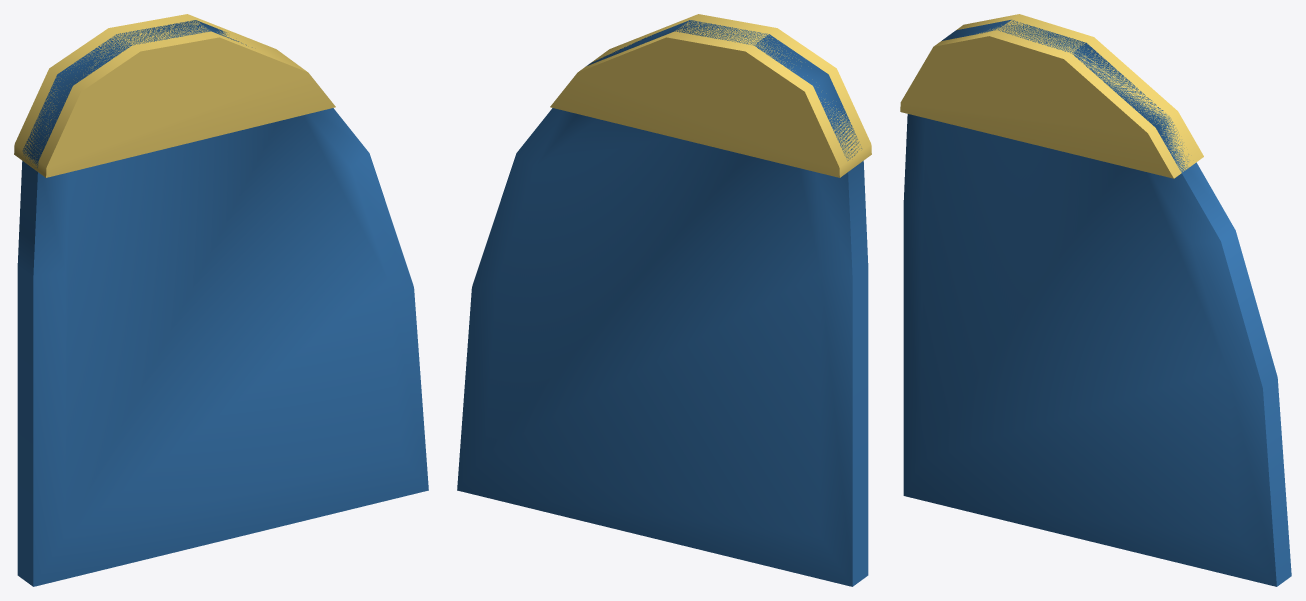
The model's file is fin.glb.
3 renders of one model, left to right at view 1: azimuth 30°, elevation 25°; view 2: azimuth 150°, elevation 25°; view 3: azimuth 330°, elevation 25°, orthographic. The views are drawn at different scales.
Parts seen in each view (by area): view 1: body, trim; view 2: body, trim; view 3: body, trim.
Boxes of the visible parts, box(x1,y1,x2,y2) form: body: box(17, 20, 428, 586); trim: box(14, 14, 335, 177); body: box(457, 20, 868, 586); trim: box(550, 14, 871, 177); body: box(903, 19, 1291, 586); trim: box(900, 14, 1203, 178).
Bounding box in the file's own units: 0.4 × 0.5 × 0.056.
